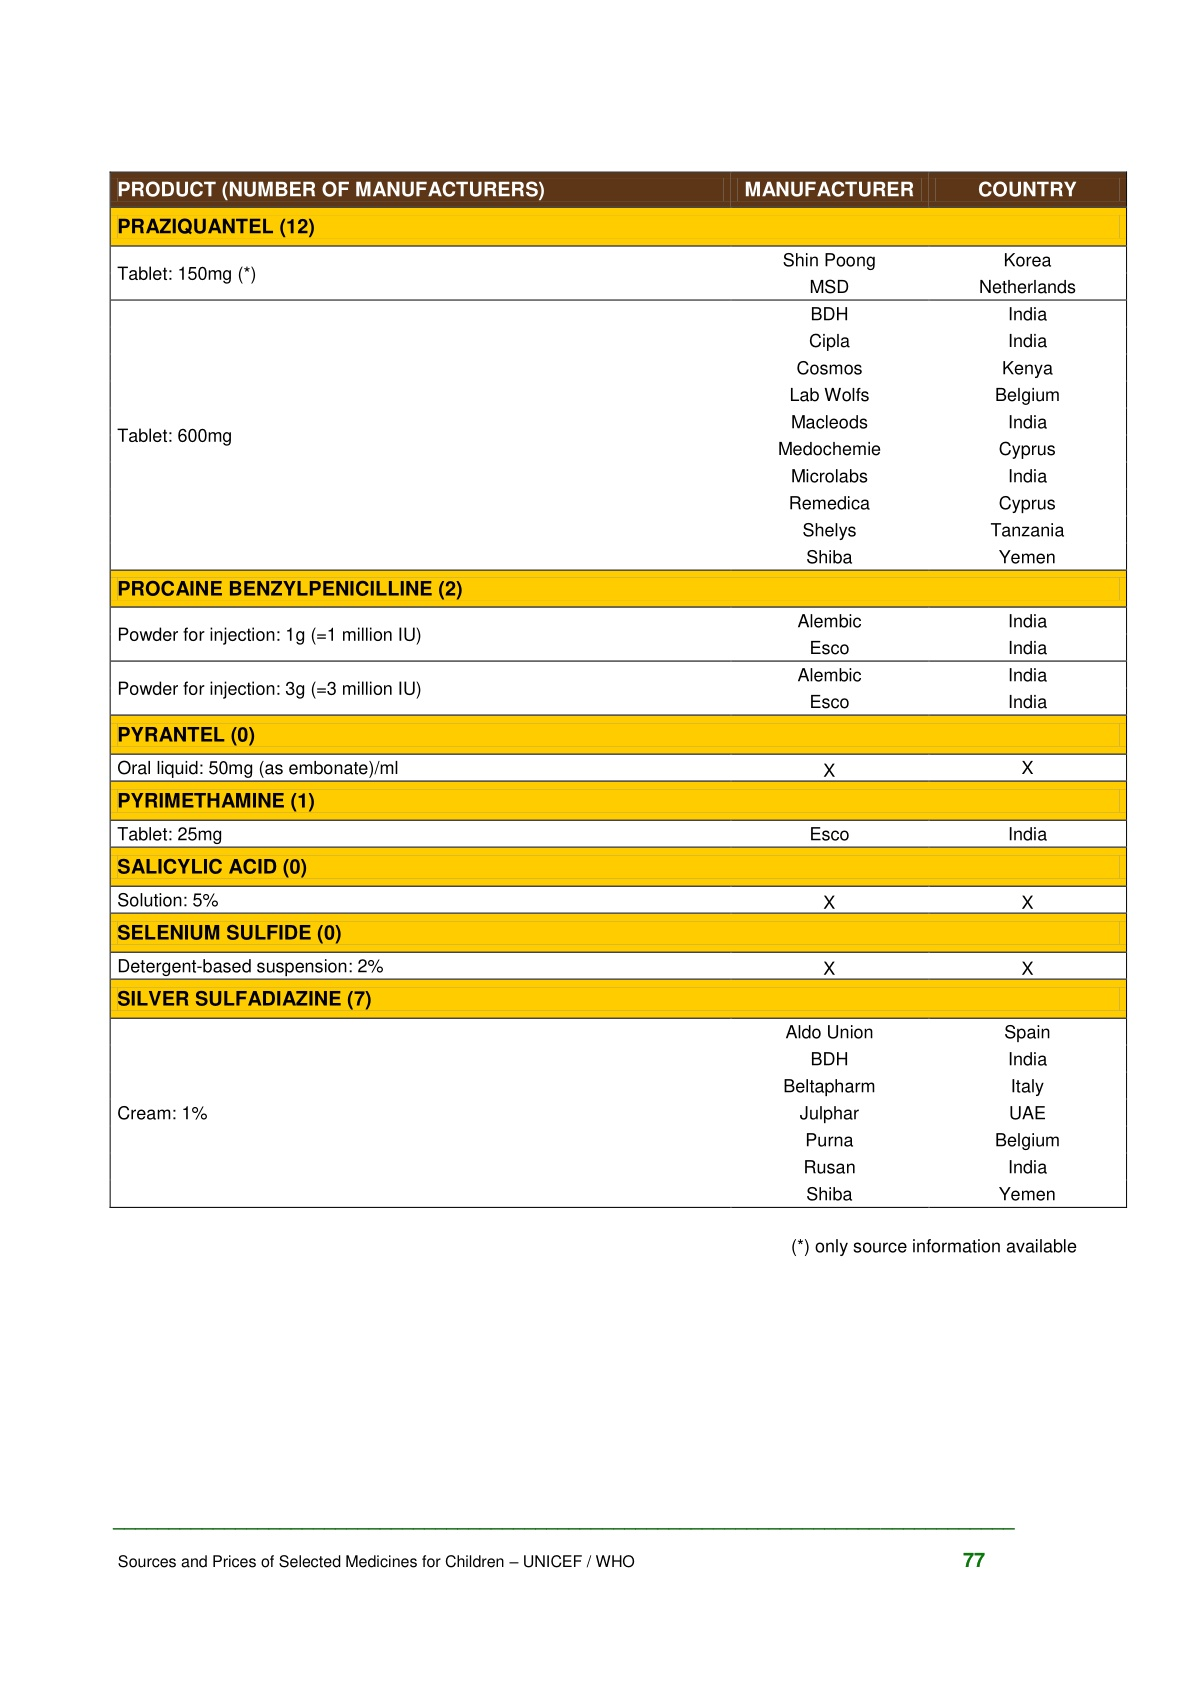partial_lined_merged_cells: (110, 171, 1129, 1212)
